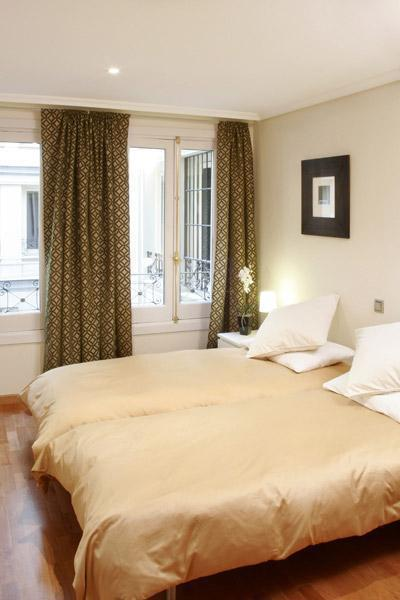Cama: (43, 340, 395, 584), (19, 292, 360, 437)
Ventana: (6, 120, 211, 329)
